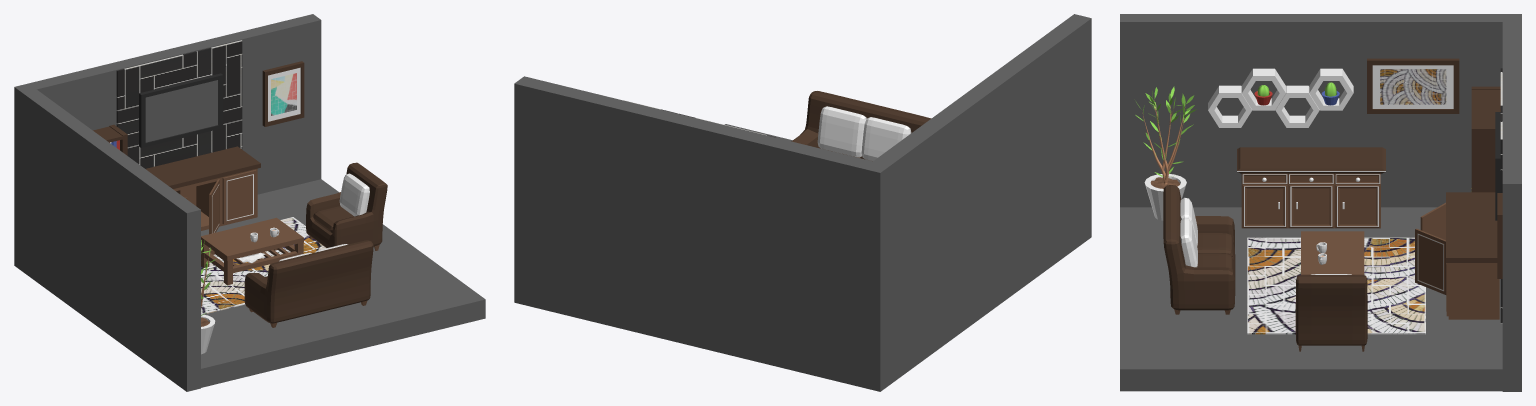
The model's file is Low_poly_living_room.fbx.
3 renders of one model, left to right at view 1: azimuth 30°, elevation 25°; view 2: azimuth 150°, elevation 25°; view 3: azimuth 270°, elevation 25°, orthographic. The views are drawn at different scales.
Parts seen in each view (by area): view 1: Wall, Wall tile, Sofa, Single sofa, TV, Table, TV stand.001, Carpet, Picture 2, TV stand.002, Plant, TV stand (+1 smaller); view 2: Wall, Sofa; view 3: Wall, Drawer, Carpet, Sofa, TV stand.001, Picture 1, Single sofa, Wallshelf, Bookshelf, Table, Plant, TV stand (+4 smaller).
Boxes of the visible parts, bbox=[...] form: Wall: bbox=[14, 14, 485, 391]; Wall tile: bbox=[116, 40, 242, 168]; Sofa: bbox=[244, 240, 373, 327]; Single sofa: bbox=[306, 162, 387, 250]; TV: bbox=[139, 73, 223, 147]; Table: bbox=[201, 217, 303, 285]; TV stand.001: bbox=[146, 146, 260, 230]; Carpet: bbox=[201, 217, 326, 314]; Picture 2: bbox=[262, 61, 304, 126]; TV stand.002: bbox=[222, 170, 256, 224]; Plant: bbox=[201, 240, 216, 354]; TV stand: bbox=[209, 179, 219, 234]; Wall: bbox=[514, 14, 1091, 391]; Sofa: bbox=[791, 91, 931, 161]; Wall: bbox=[1120, 14, 1521, 391]; Drawer: bbox=[1237, 147, 1385, 228]; Carpet: bbox=[1247, 237, 1425, 334]; Sofa: bbox=[1163, 185, 1235, 314]; TV stand.001: bbox=[1446, 192, 1499, 319]; Picture 1: bbox=[1367, 58, 1459, 113]; Single sofa: bbox=[1295, 274, 1367, 351]; Wallshelf: bbox=[1208, 68, 1353, 127]; Bookshelf: bbox=[1471, 86, 1500, 192]; Table: bbox=[1301, 231, 1364, 275]; Plant: bbox=[1135, 86, 1196, 220]; TV stand: bbox=[1415, 228, 1446, 294].
Bounding box in the file's own units: 1050 × 600 × 1050.
15 materials, 3 textured.
